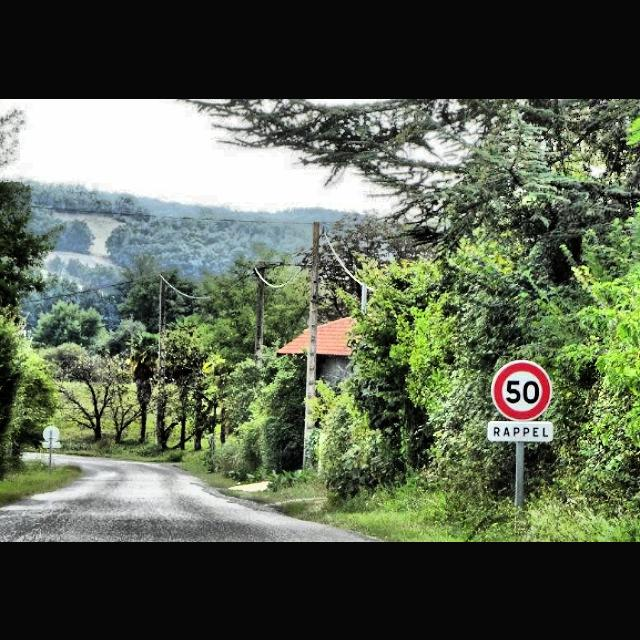speed_50: (491, 356, 553, 422)
